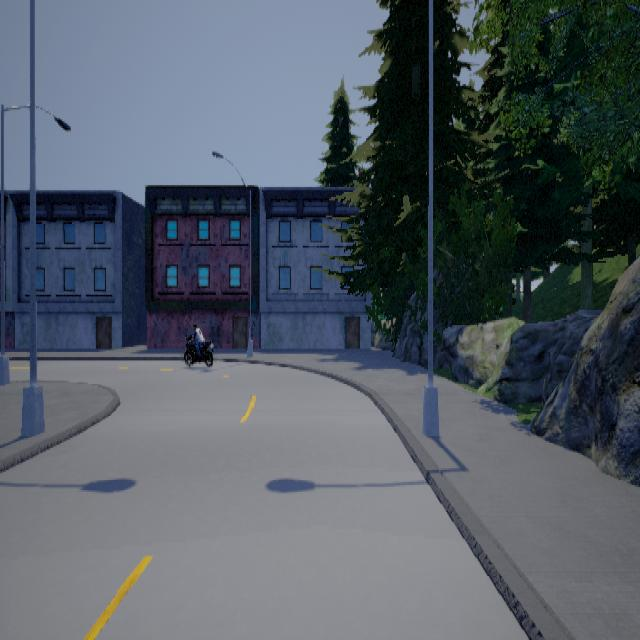motobike: (183, 334, 213, 366)
